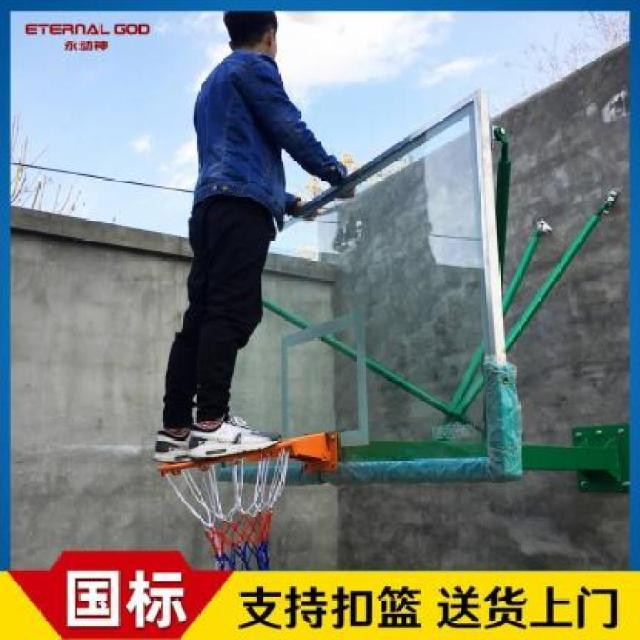rim: (154, 449, 292, 569)
